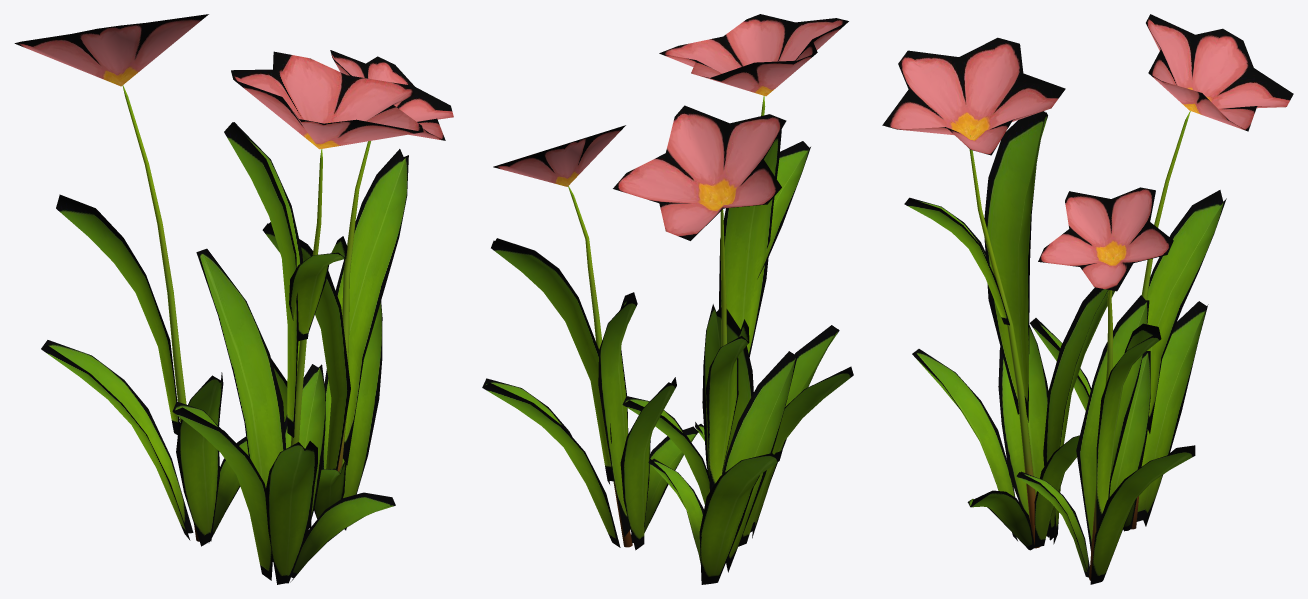
The model's file is flower_3_group.gltf.
3 renders of one model, left to right at view 1: azimuth 30°, elevation 25°; view 2: azimuth 150°, elevation 25°; view 3: azimuth 270°, elevation 25°, orthographic. The views are drawn at different scales.
Parts seen in each view (by area): view 1: Flower_3_Group; view 2: Flower_3_Group; view 3: Flower_3_Group.
Part boxes in pixels (x1,y1,x2,y2): Flower_3_Group: (14, 14, 453, 584); Flower_3_Group: (482, 14, 853, 584); Flower_3_Group: (882, 14, 1293, 584).
Bounding box in the file's own units: 1.49 × 2.05 × 1.59.
2 materials, 2 textured.
